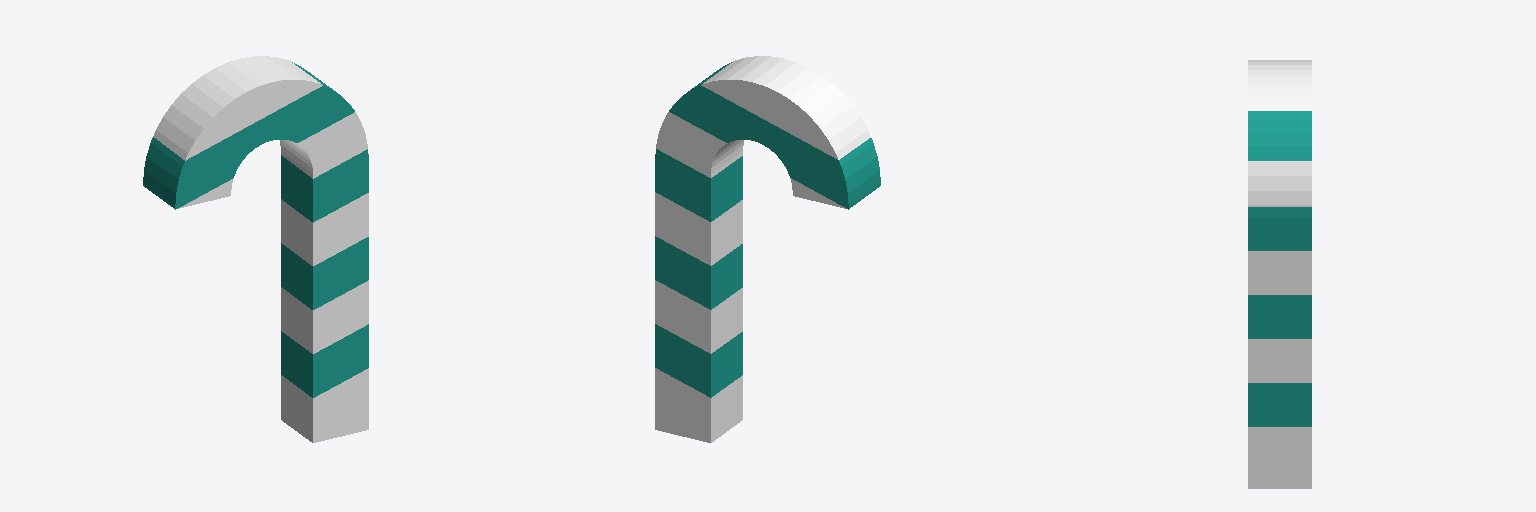
File: candyCaneMint.obj
3 renders of one model, left to right at view 1: azimuth 30°, elevation 25°; view 2: azimuth 150°, elevation 25°; view 3: azimuth 270°, elevation 25°, orthographic.
Parts seen in each view (by area): view 1: candyCaneMint; view 2: candyCaneMint; view 3: candyCaneMint.
Part boxes in pixels (x1,y1,x2,y2): candyCaneMint: (143, 56, 368, 442); candyCaneMint: (655, 56, 880, 442); candyCaneMint: (1248, 60, 1311, 488).
Bounding box in the file's own units: 0.1383 × 0.2537 × 0.0399.